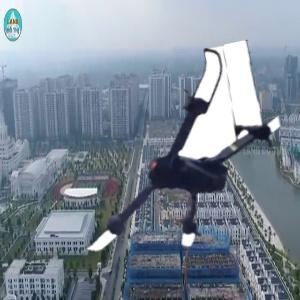drone: (65, 58, 290, 283)
